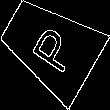P_NW: (22, 18, 78, 75)
